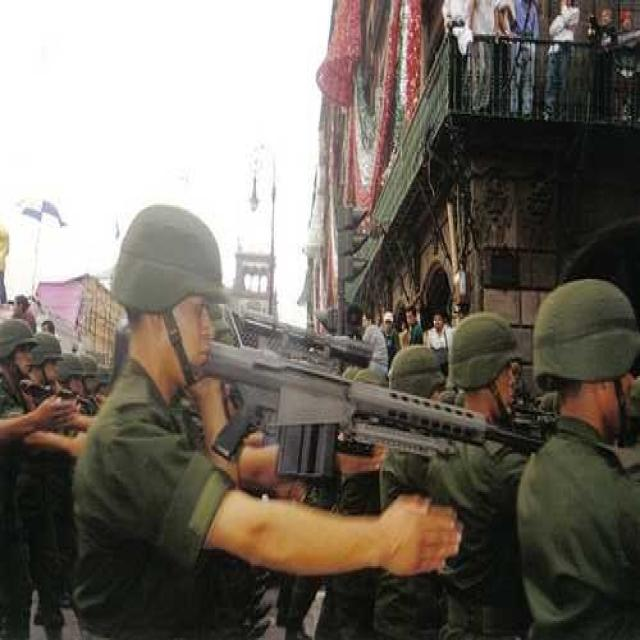heavyweapon: (180, 286, 554, 514)
